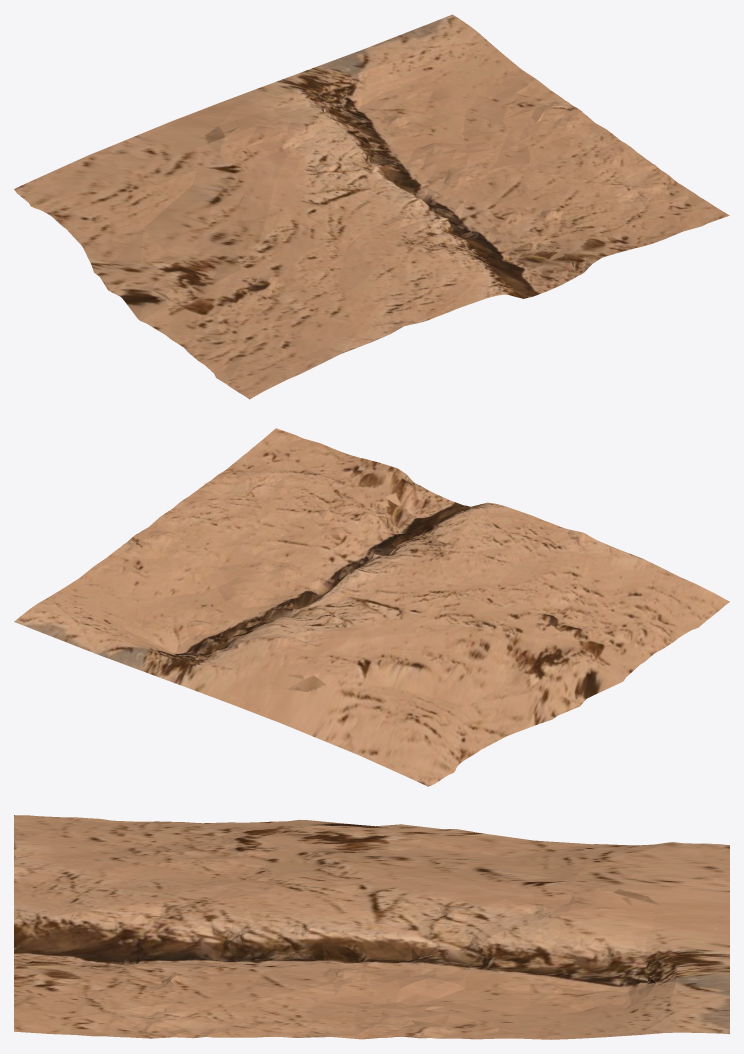
3 views of the same model, one above another, from view 1: azimuth 30°, elevation 25°; view 2: azimuth 150°, elevation 25°; view 3: azimuth 270°, elevation 25° (orthographic). The views are drawn at different scales.
Size of the model in its own units: 2.09 by 0.2889 by 2.09.
2 materials, 2 textured.
